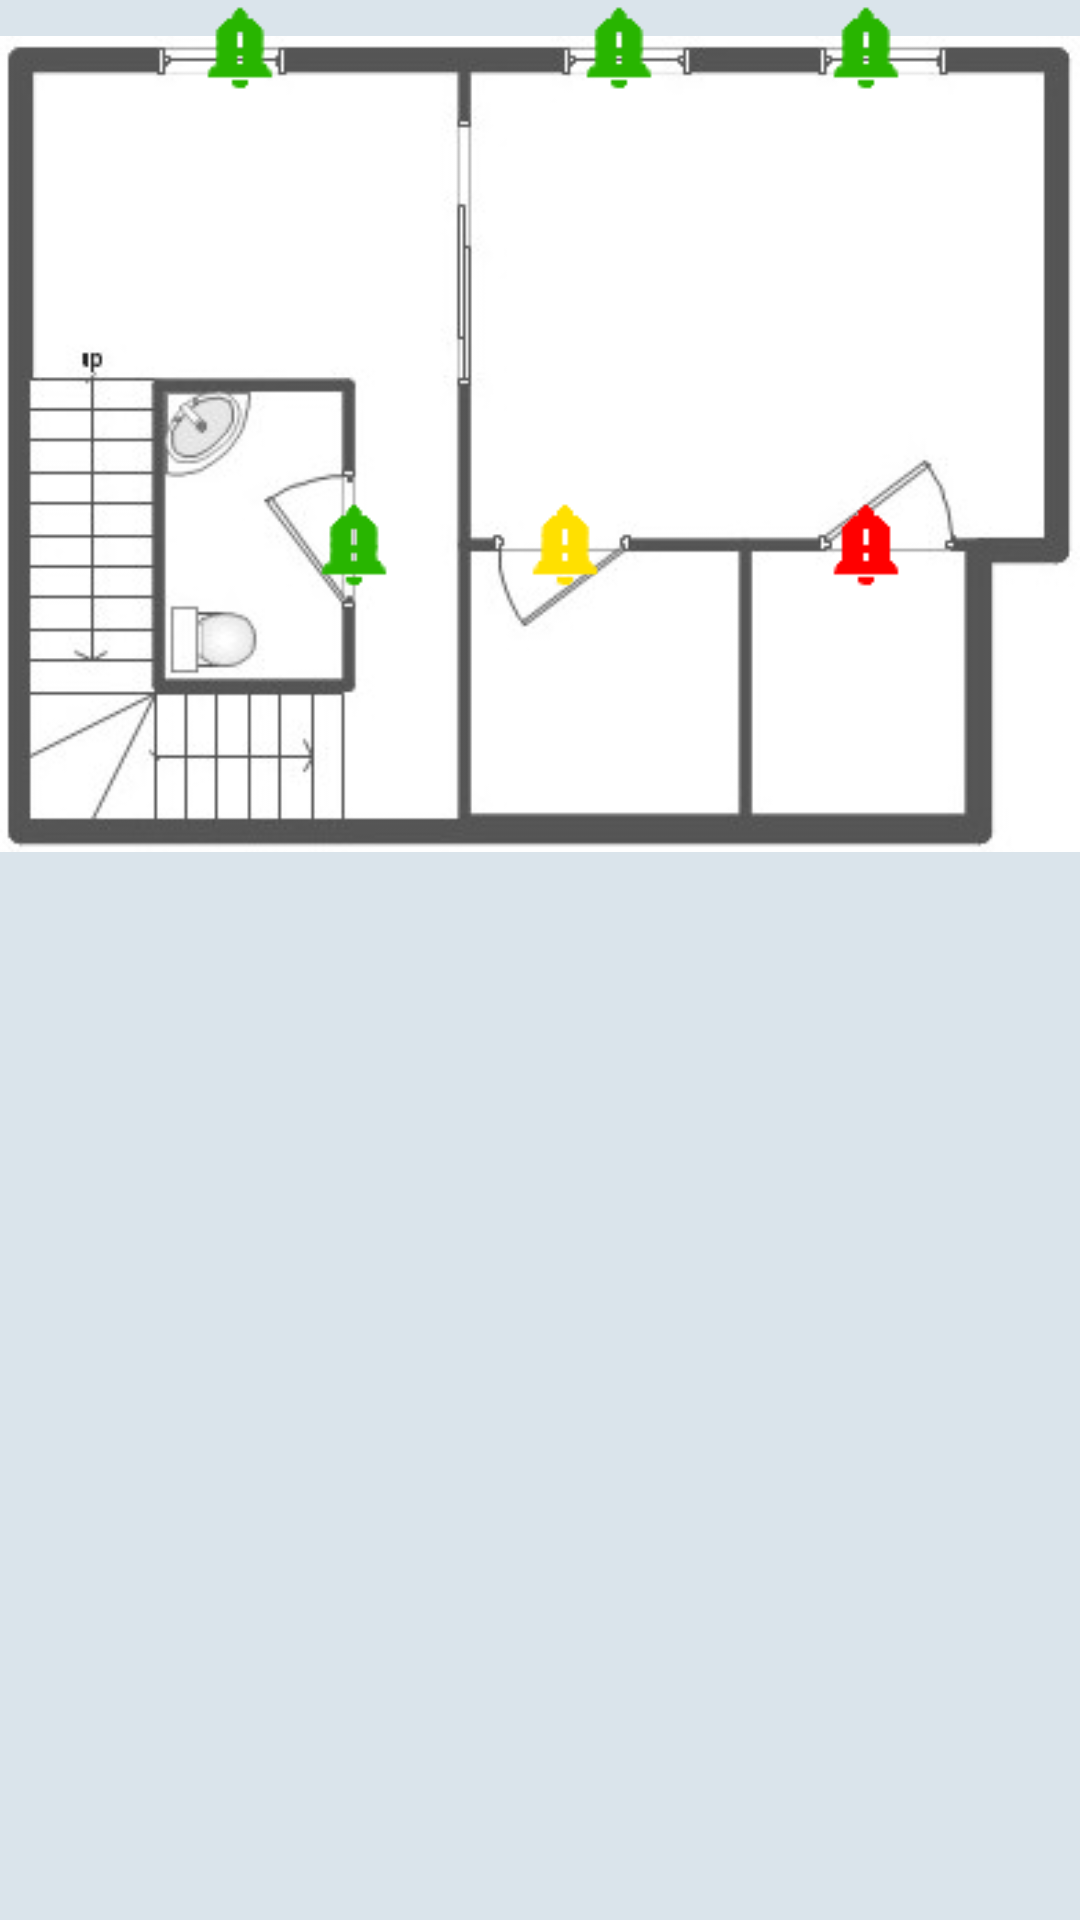

Named icons in this screenshot (1080 × 1920) and their bounding boxes, (x1, y1, x2, y2):
notify: (192, 0, 288, 89), (571, 0, 667, 89), (818, 0, 914, 89), (306, 497, 387, 593), (818, 497, 914, 586), (517, 504, 613, 593)
